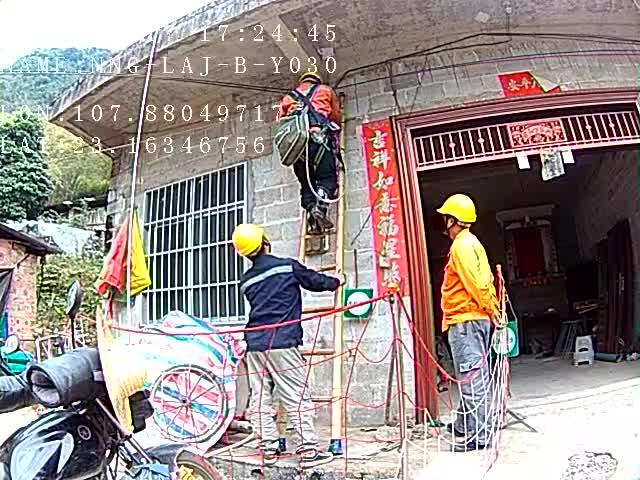halt: (438, 195, 480, 239), (234, 225, 274, 264), (298, 73, 324, 88)
